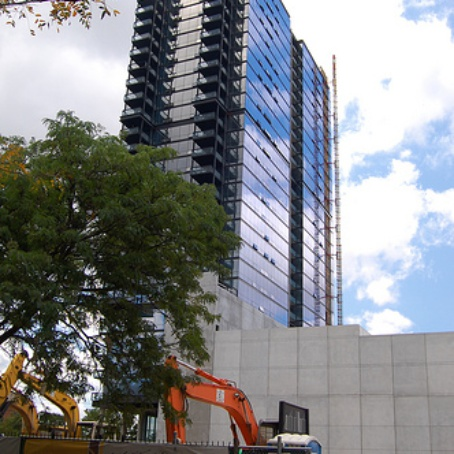building: (143, 1, 349, 319)
excavator: (160, 356, 326, 454), (1, 341, 107, 448)
sky: (347, 1, 454, 326), (1, 1, 124, 122)
tree: (1, 139, 215, 421)
